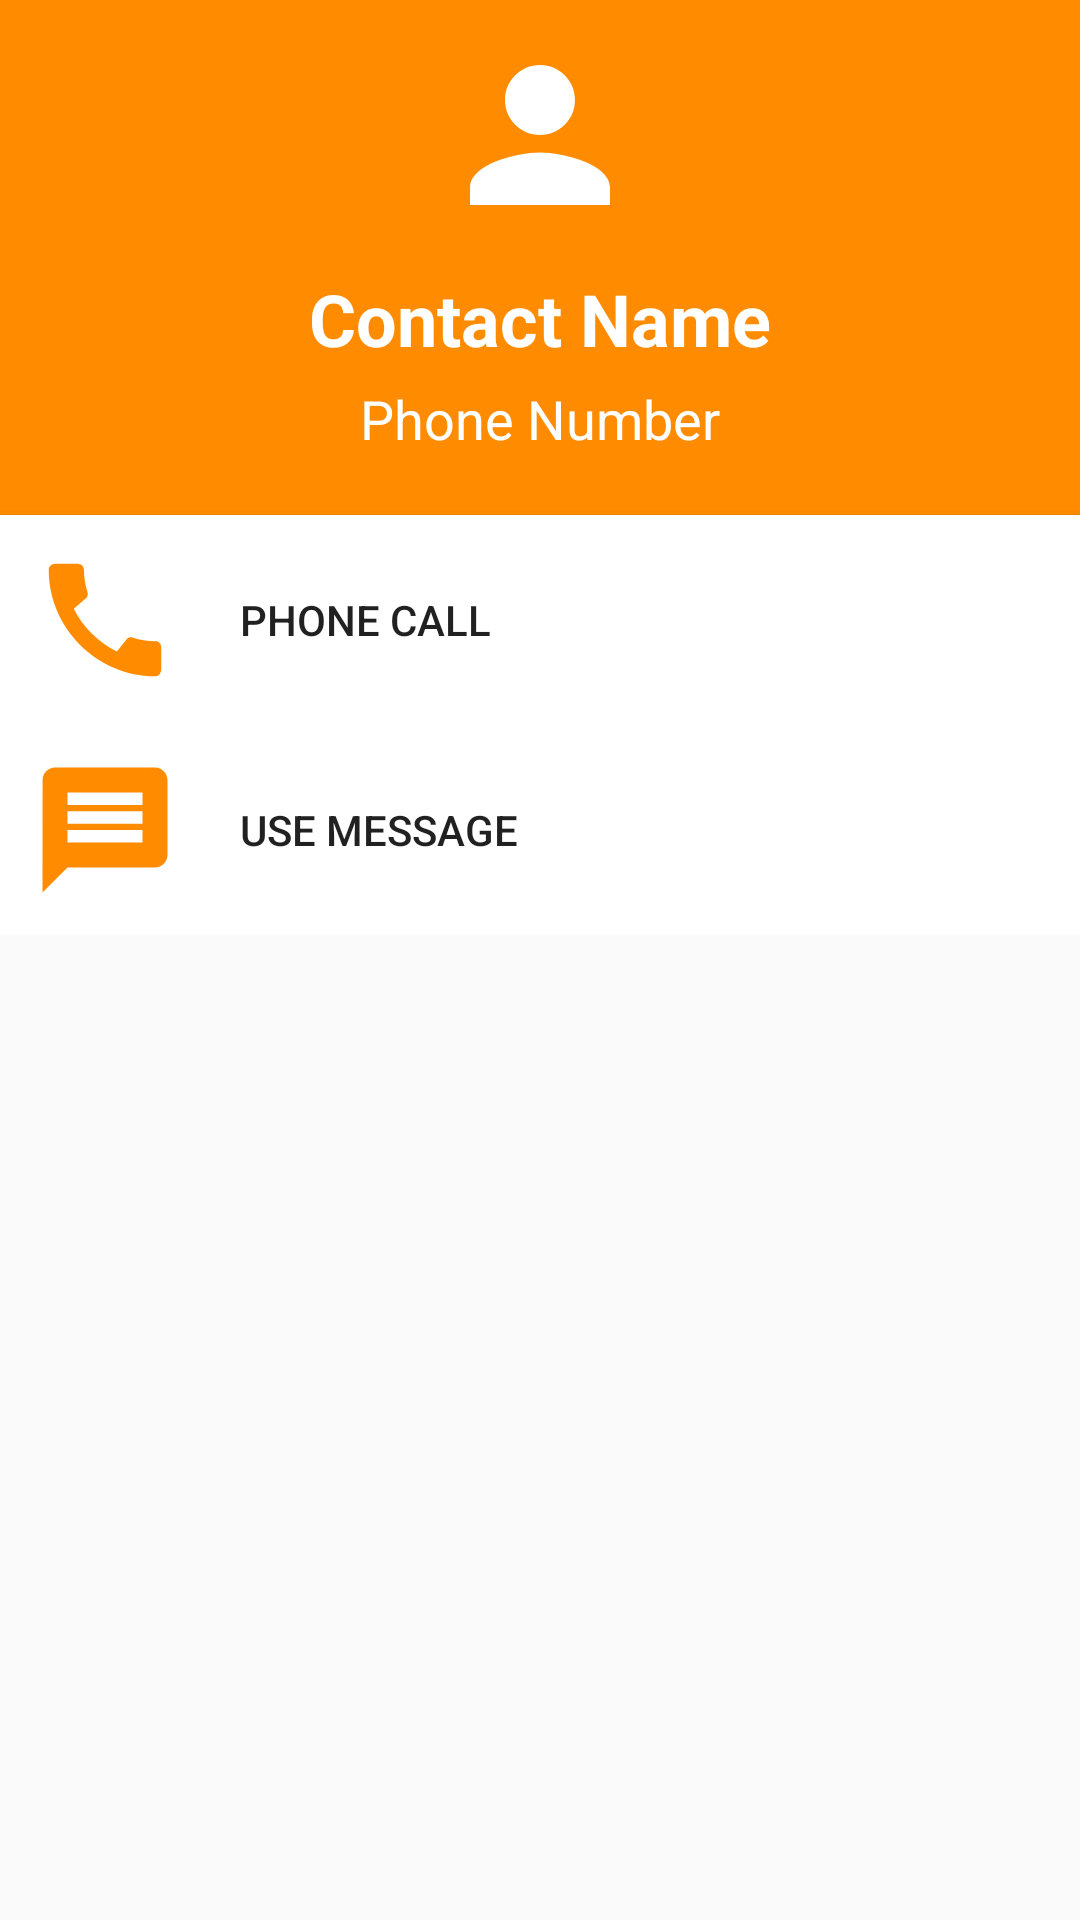

Where icons sit on this 1080*1920 app screen, as [x1, y1, x2, y2]:
person: [470, 65, 610, 205]
